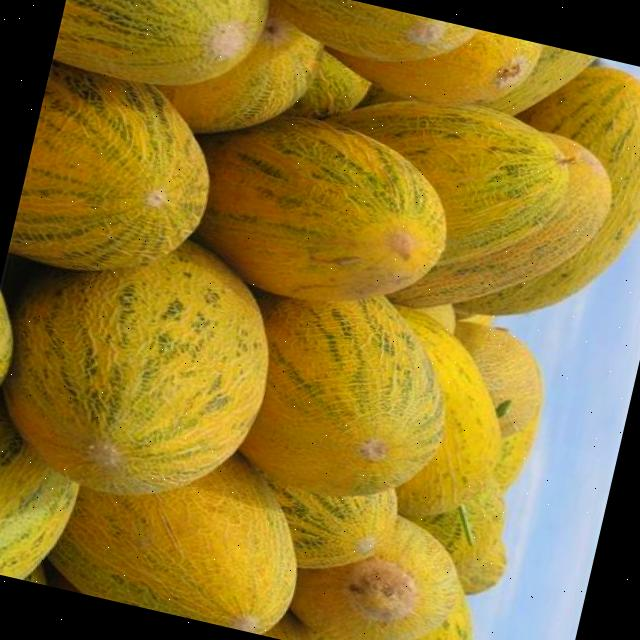Hami Melon: (0, 200, 298, 526), (417, 38, 640, 352), (177, 92, 468, 328), (223, 266, 470, 520), (42, 420, 322, 640), (318, 74, 582, 292), (7, 51, 234, 296), (342, 308, 528, 532), (51, 0, 277, 106)
